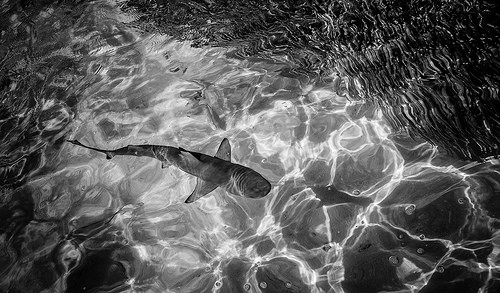shark: (48, 115, 280, 213)
